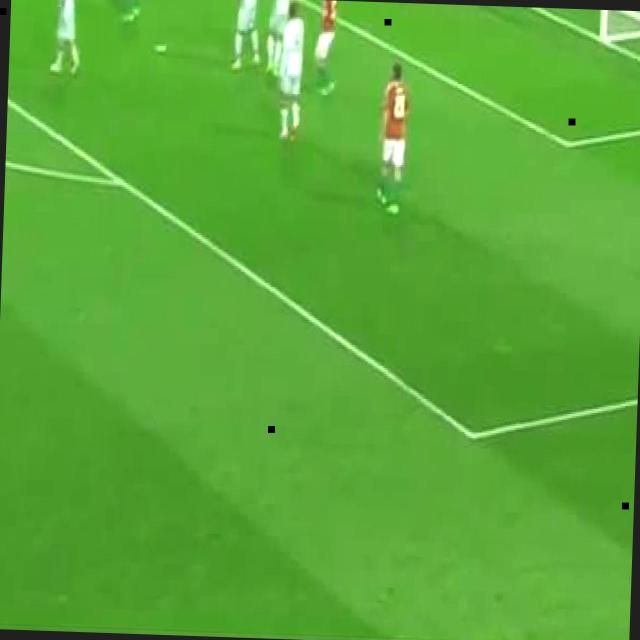player-white: (374, 62, 410, 214), (278, 0, 306, 142), (315, 0, 341, 95), (49, 0, 82, 74), (231, 0, 262, 70), (265, 0, 291, 74), (118, 0, 147, 21)
